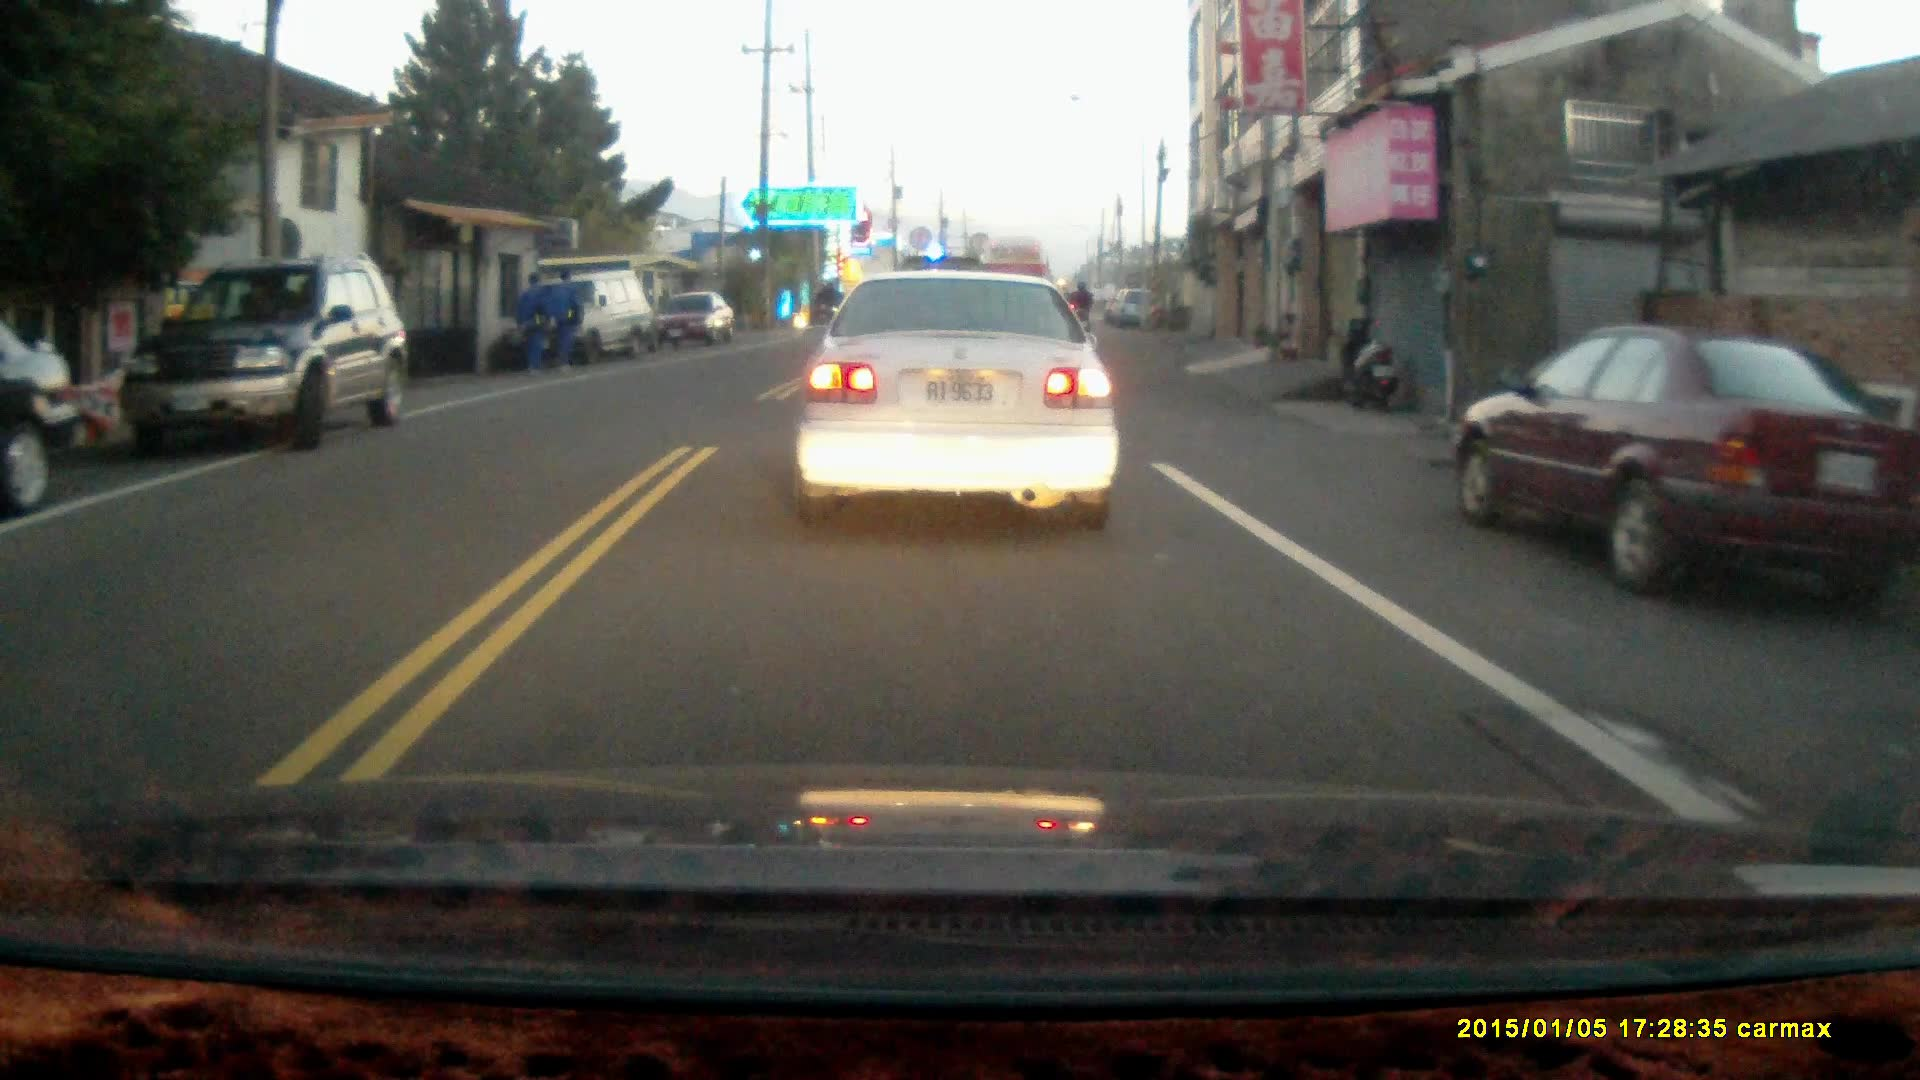pedestrian: (512, 270, 548, 381), (550, 265, 583, 376)
vehicle: (1455, 326, 1915, 601), (794, 272, 1124, 540), (124, 252, 408, 450), (1, 319, 84, 510), (536, 269, 668, 361), (648, 289, 738, 352)
